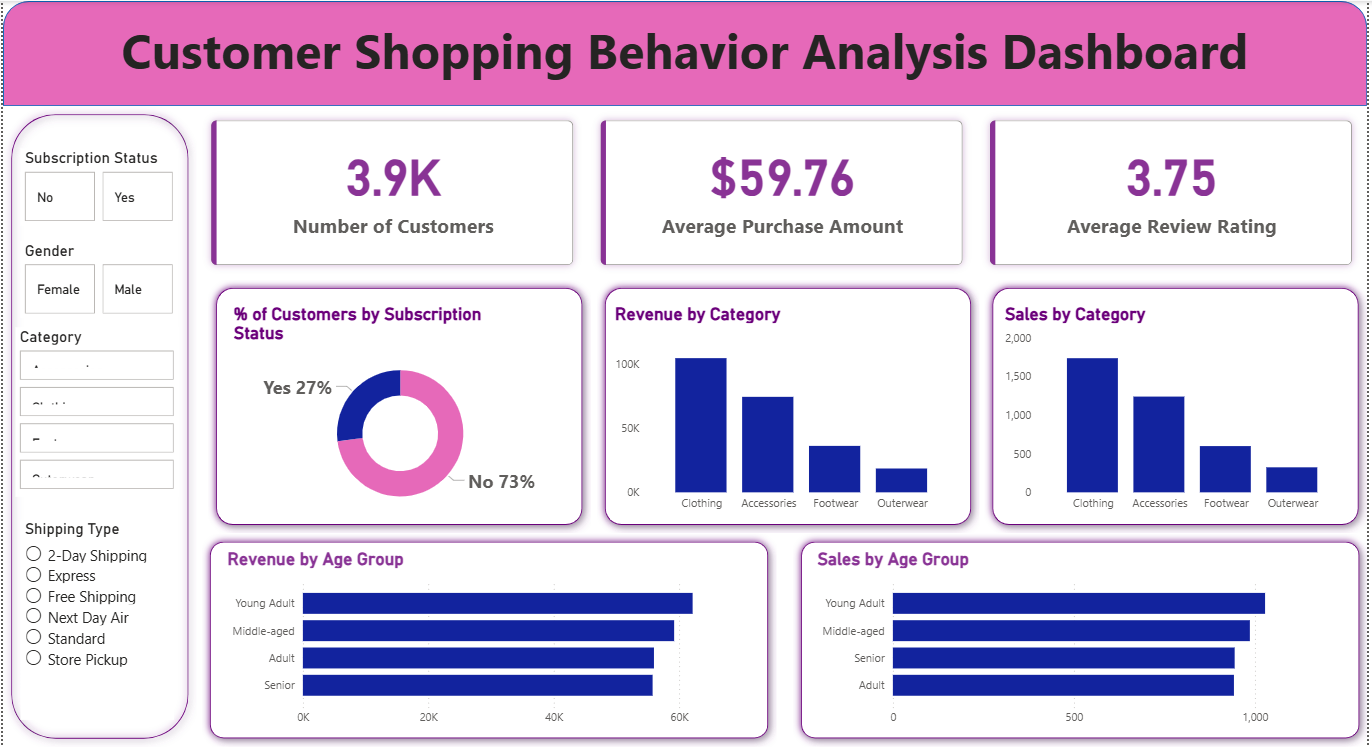

This screenshot's page, from the dashboard's own definition file:
{"tool":"powerbi","page":{"name":"Page 1","canvas":[1500,820],"ordinal":0},"visuals":[{"type":"cardVisual","fields":{"Data":["public customer.Number of Customers","public customer.Average Purchase Amount","public customer.Average Review Rating"]},"box":[212.9,115.3,1286.5,191.6],"z":2000},{"type":"shape","box":[218.3,585.6,631.7,234.2],"z":2500,"group":"g1"},{"type":"shape","box":[0,0,1499.4,115.3],"z":3000},{"type":"textbox","box":[0,12.4,1499.4,102.9],"z":4000},{"type":"shape","box":[225.4,307,420.5,278.6],"z":5000},{"type":"donutChart","title":"% of Customers by Subscription Status","fields":{"Category":["public customer.subscription_status"],"Y":["CountNonNull(public customer.customer_id)"]},"box":[248.4,331.8,376.2,237.8],"z":6000},{"type":"shape","box":[1078.9,307,420.5,278.6],"z":7000},{"type":"shape","box":[652.1,307,420.5,278.6],"z":8000},{"type":"clusteredColumnChart","title":"Revenue by Category","fields":{"Y":["Sum(public customer.purchase_amount)"],"Category":["public customer.category"]},"box":[667.2,331.8,385.1,237.8],"z":9000},{"type":"clusteredColumnChart","title":"Sales by Category","fields":{"Y":["CountNonNull(public customer.customer_id)"],"Category":["public customer.category"]},"box":[1096.6,331.8,385.1,237.8],"z":10000},{"type":"shape","box":[0,115.3,212.9,704.5],"z":11000},{"type":"advancedSlicerVisual","fields":{"Values":["public customer.subscription_status"]},"box":[19.5,161.5,173.9,85.2],"z":12000},{"type":"advancedSlicerVisual","fields":{"Values":["public customer.gender"]},"box":[19.5,264.4,173.9,85.2],"z":13000},{"type":"advancedSlicerVisual","fields":{"Values":["public customer.category"]},"box":[14.2,358.4,179.2,186.3],"z":14000},{"type":"listSlicer","fields":{"Values":["public customer.shipping_type"]},"box":[19.5,569.6,168.6,220],"z":15000},{"type":"shape","box":[867.7,585.6,631.7,234.2],"z":16000},{"type":"clusteredBarChart","title":"Sales by Age Group","fields":{"Y":["CountNonNull(public customer.customer_id)"],"Category":["public customer.age_group"]},"box":[890.8,601.5,585.6,204.1],"z":17000},{"type":"clusteredBarChart","title":"Revenue by Age Group","fields":{"Y":["Sum(public customer.purchase_amount)"],"Category":["public customer.age_group"]},"box":[241.4,601.6,585.6,204.1],"z":17500,"group":"g1"},{"type":"group","id":"g1","title":"Group 1","box":[218.3,585.6,631.7,234.2],"z":17501}]}

Visuals, with their boxes in screenshot pixels (x1, y1, x2, y2), scaled from the page's 1500x820 canvas onto the 1372x747 screenshot:
cardVisual - public customer.Number of Customers x public customer.Average Purchase Amount: x1=195 y1=105 x2=1371 y2=280
shape: x1=200 y1=533 x2=777 y2=746
shape: x1=0 y1=0 x2=1371 y2=105
textbox: x1=0 y1=11 x2=1371 y2=105
shape: x1=206 y1=280 x2=591 y2=533
"% of Customers by Subscription Status" donutChart: x1=227 y1=302 x2=571 y2=519
shape: x1=987 y1=280 x2=1371 y2=533
shape: x1=596 y1=280 x2=981 y2=533
"Revenue by Category" clusteredColumnChart: x1=610 y1=302 x2=963 y2=519
"Sales by Category" clusteredColumnChart: x1=1003 y1=302 x2=1355 y2=519
shape: x1=0 y1=105 x2=195 y2=746
advancedSlicerVisual - public customer.subscription_status: x1=18 y1=147 x2=177 y2=225
advancedSlicerVisual - public customer.gender: x1=18 y1=241 x2=177 y2=318
advancedSlicerVisual - public customer.category: x1=13 y1=326 x2=177 y2=496
listSlicer - public customer.shipping_type: x1=18 y1=519 x2=172 y2=719
shape: x1=794 y1=533 x2=1371 y2=746
"Sales by Age Group" clusteredBarChart: x1=815 y1=548 x2=1350 y2=734
"Revenue by Age Group" clusteredBarChart: x1=221 y1=548 x2=756 y2=734
"Group 1" group: x1=200 y1=533 x2=777 y2=746
